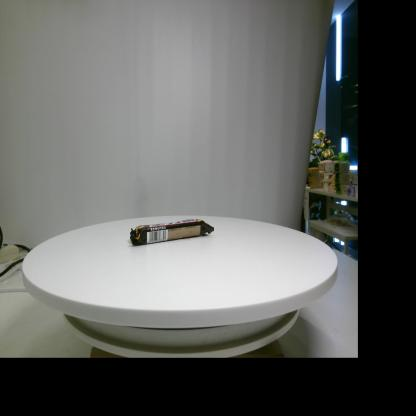Chocolate: (129, 219, 214, 246)
